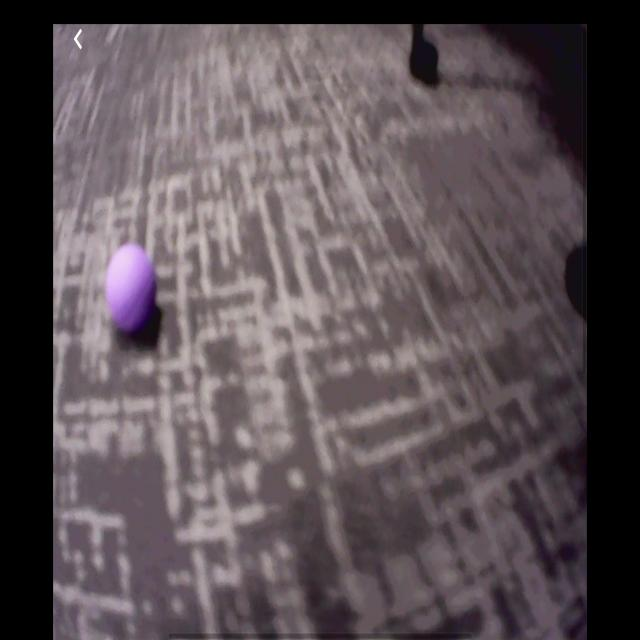ball: (106, 244, 159, 329)
